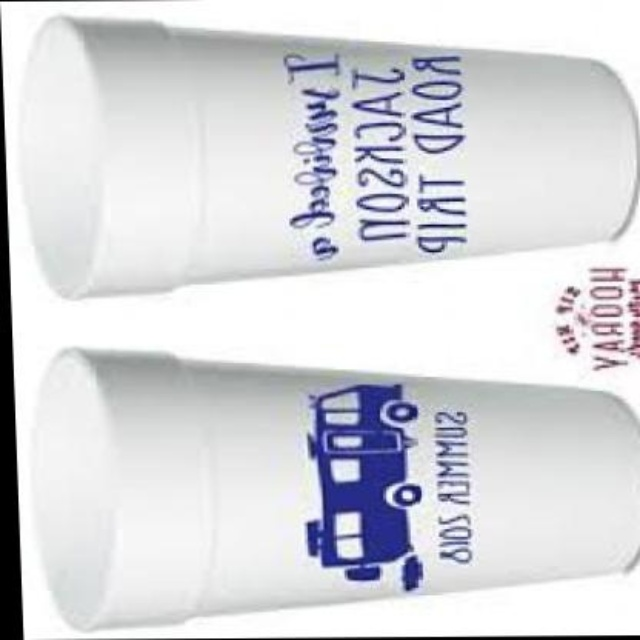trash: (23, 17, 637, 295), (35, 349, 638, 626)
